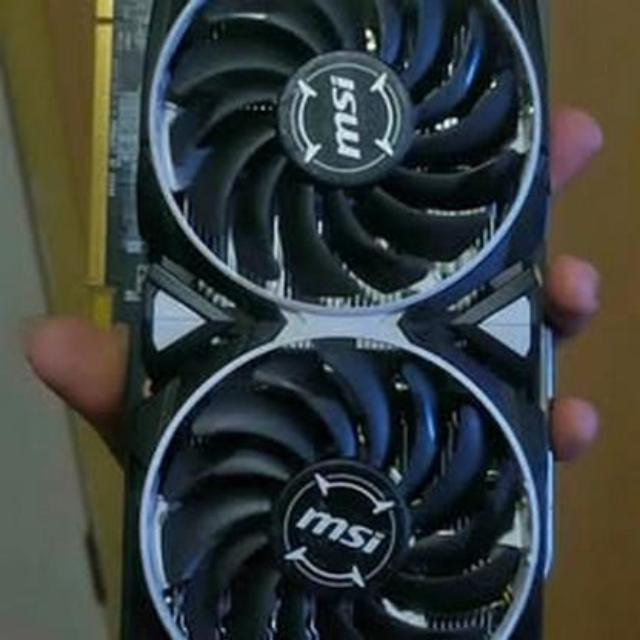GPU: (81, 0, 574, 640)
